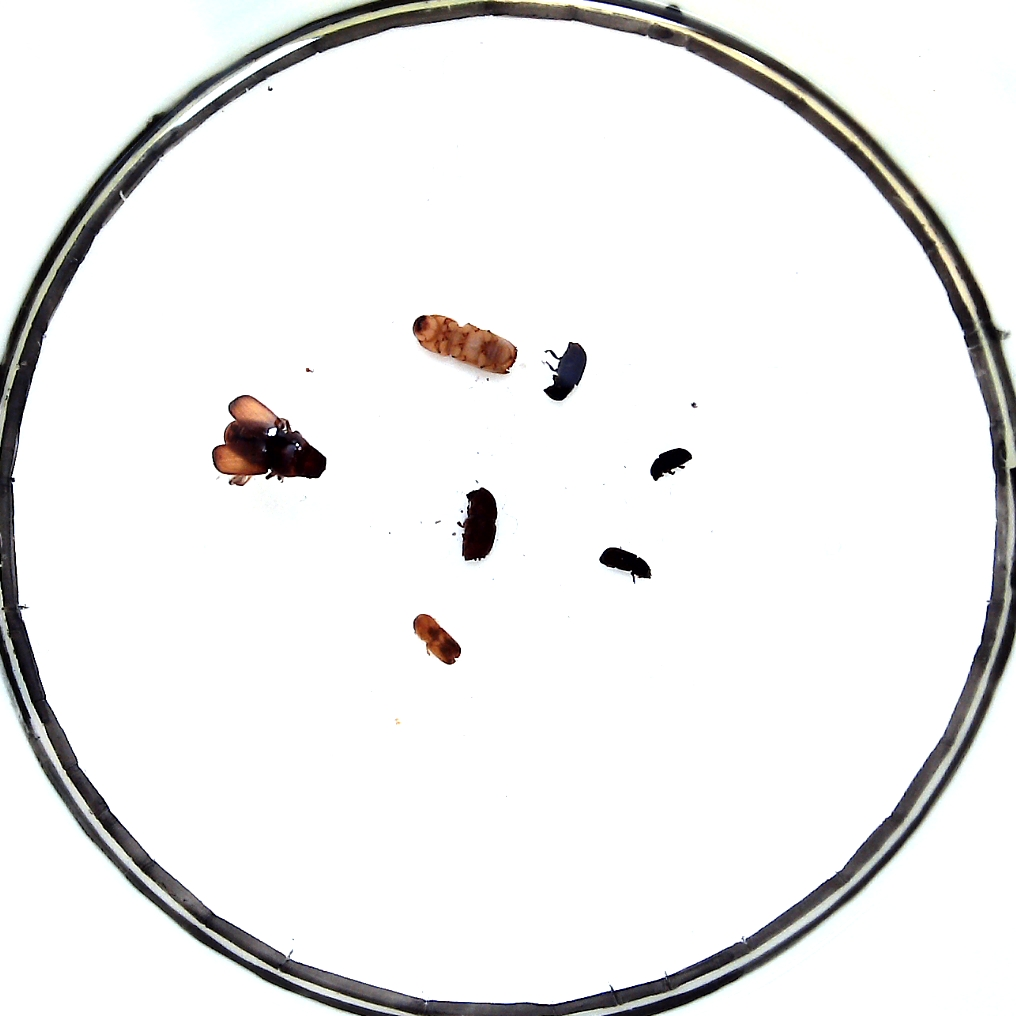Boerner: (412, 310, 518, 373)
Leconte: (212, 395, 328, 482)
Linnaeus: (460, 485, 497, 561)
acuminatus: (409, 614, 461, 667)
armandi: (539, 340, 589, 404)
coleoptera: (598, 546, 646, 580), (648, 444, 691, 479)
